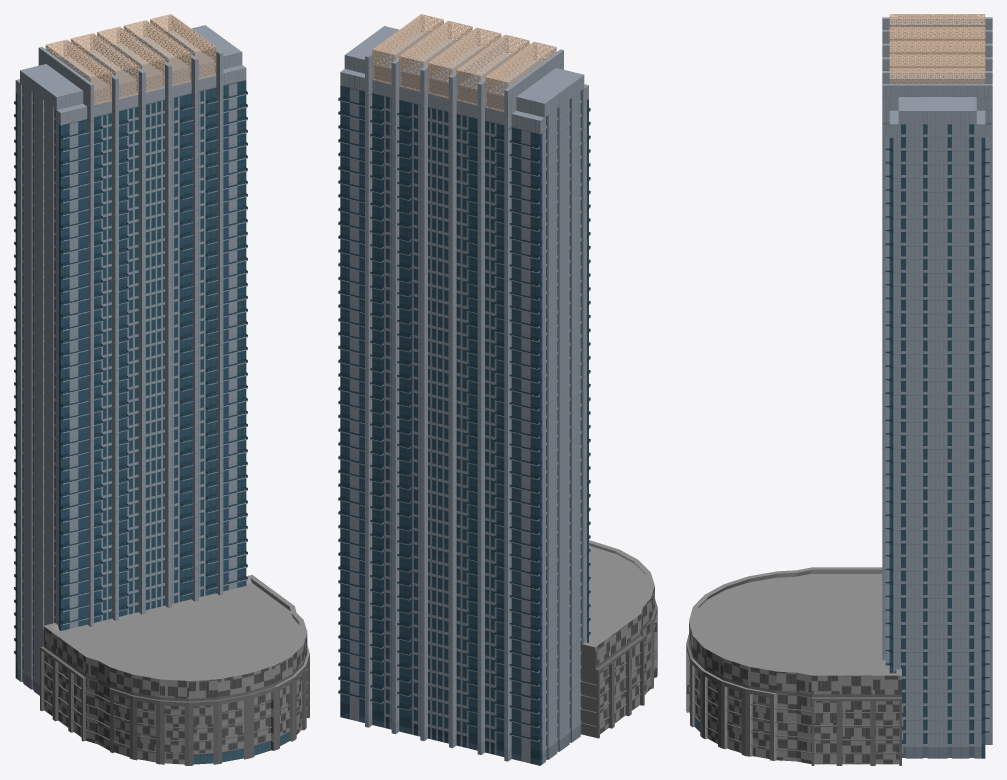
File: t_burjcrown.glb
3 views of the same model, side by side, from view 1: azimuth 30°, elevation 25°; view 2: azimuth 150°, elevation 25°; view 3: azimuth 270°, elevation 25° (orthographic). The views are drawn at different scales.
Visible parts, largest first — view 1: Object_3, Object_2, Object_4, Object_5, Object_6, Object_7; view 2: Object_3, Object_4, Object_5, Object_6, Object_2, Object_7; view 3: Object_3, Object_2, Object_5, Object_7, Object_4, Object_6.
Part boxes in pixels (x1,y1,x2,y2): Object_3: (15,16,246,695); Object_2: (40,575,309,765); Object_4: (15,80,289,764); Object_5: (22,85,205,689); Object_6: (14,91,247,654); Object_7: (45,14,216,105); Object_3: (340,15,588,763); Object_4: (340,86,588,765); Object_5: (384,90,581,759); Object_6: (338,97,590,741); Object_2: (580,540,657,738); Object_7: (372,14,556,112); Object_3: (882,15,992,758); Object_2: (686,567,903,765); Object_5: (901,124,974,757); Object_7: (889,14,985,83); Object_4: (689,138,985,758); Object_6: (885,148,989,733).
Bounding box in the file's own units: 58.07 × 161 × 67.49.
7 materials, 6 textured.
